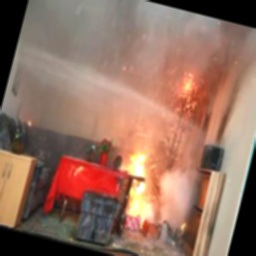fire: (115, 148, 157, 211)
smoke: (140, 126, 211, 224)
